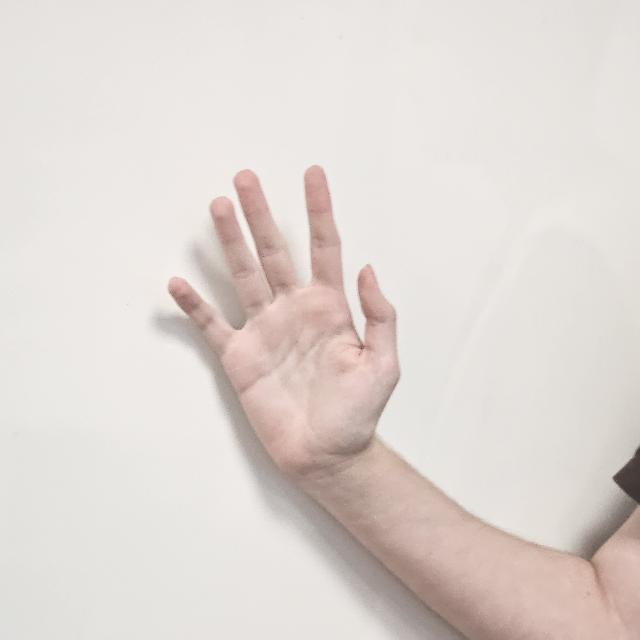X: (169, 167, 403, 479)
